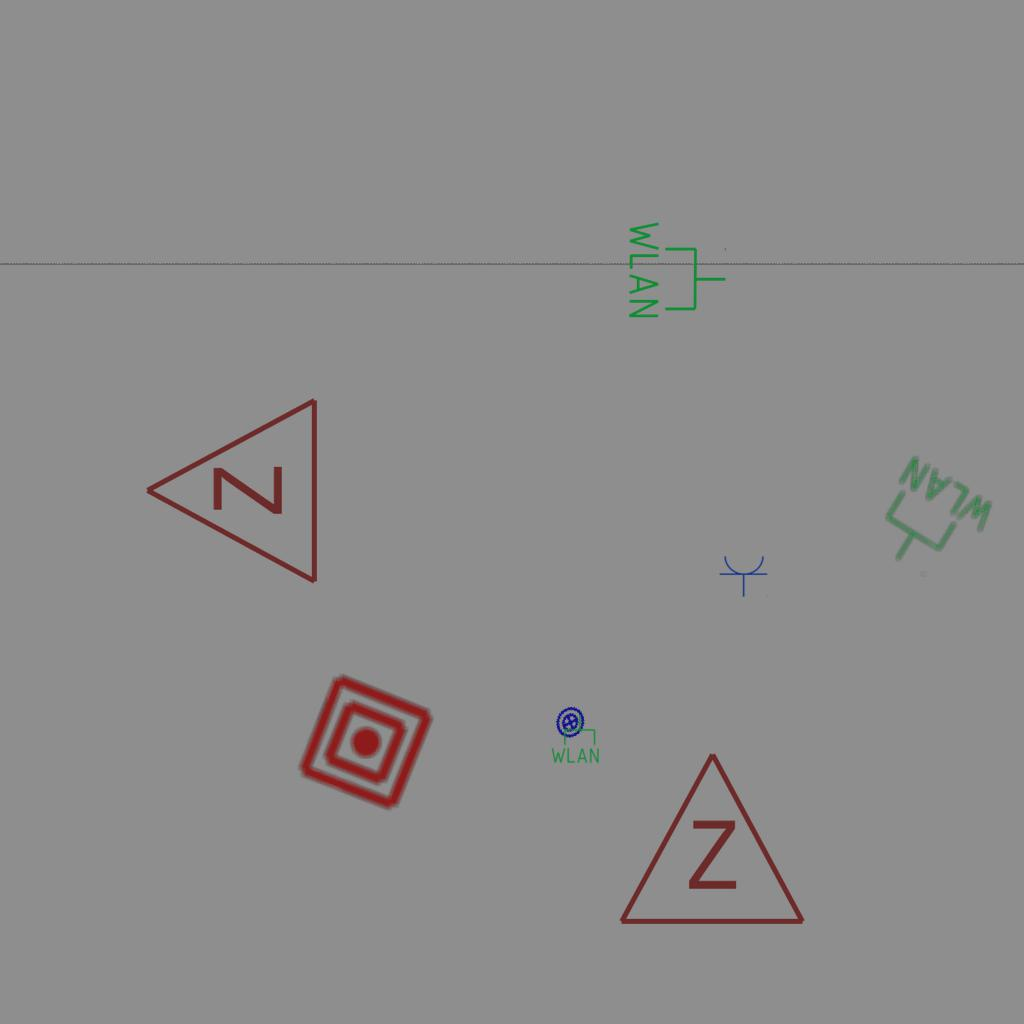NAM-Nichtautomatischer_Melder: (291, 668, 440, 817)
Schukosteckdose_einfach: (719, 554, 769, 597)
Taster_beleuchtet: (549, 701, 592, 744)
WLAN: (859, 450, 1003, 595), (625, 217, 729, 322), (549, 713, 601, 765)
Zimmersignalleuchte: (132, 395, 332, 591), (612, 739, 808, 939)
